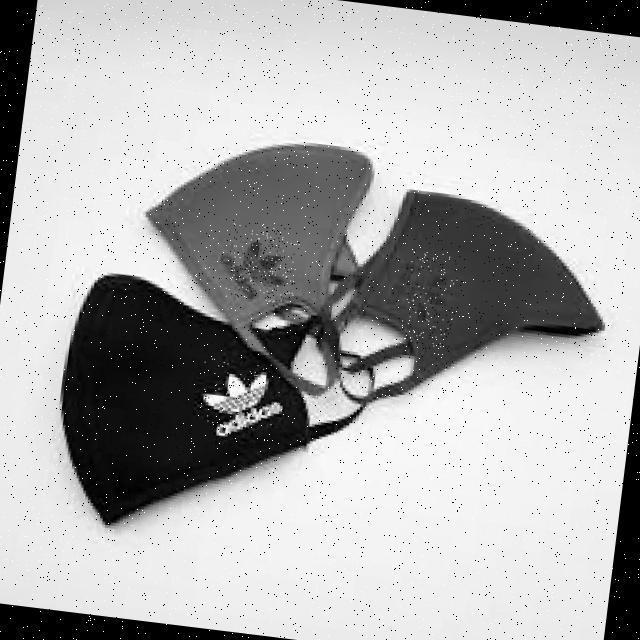Adidas: (195, 356, 282, 433), (224, 220, 301, 305), (399, 249, 461, 351)
